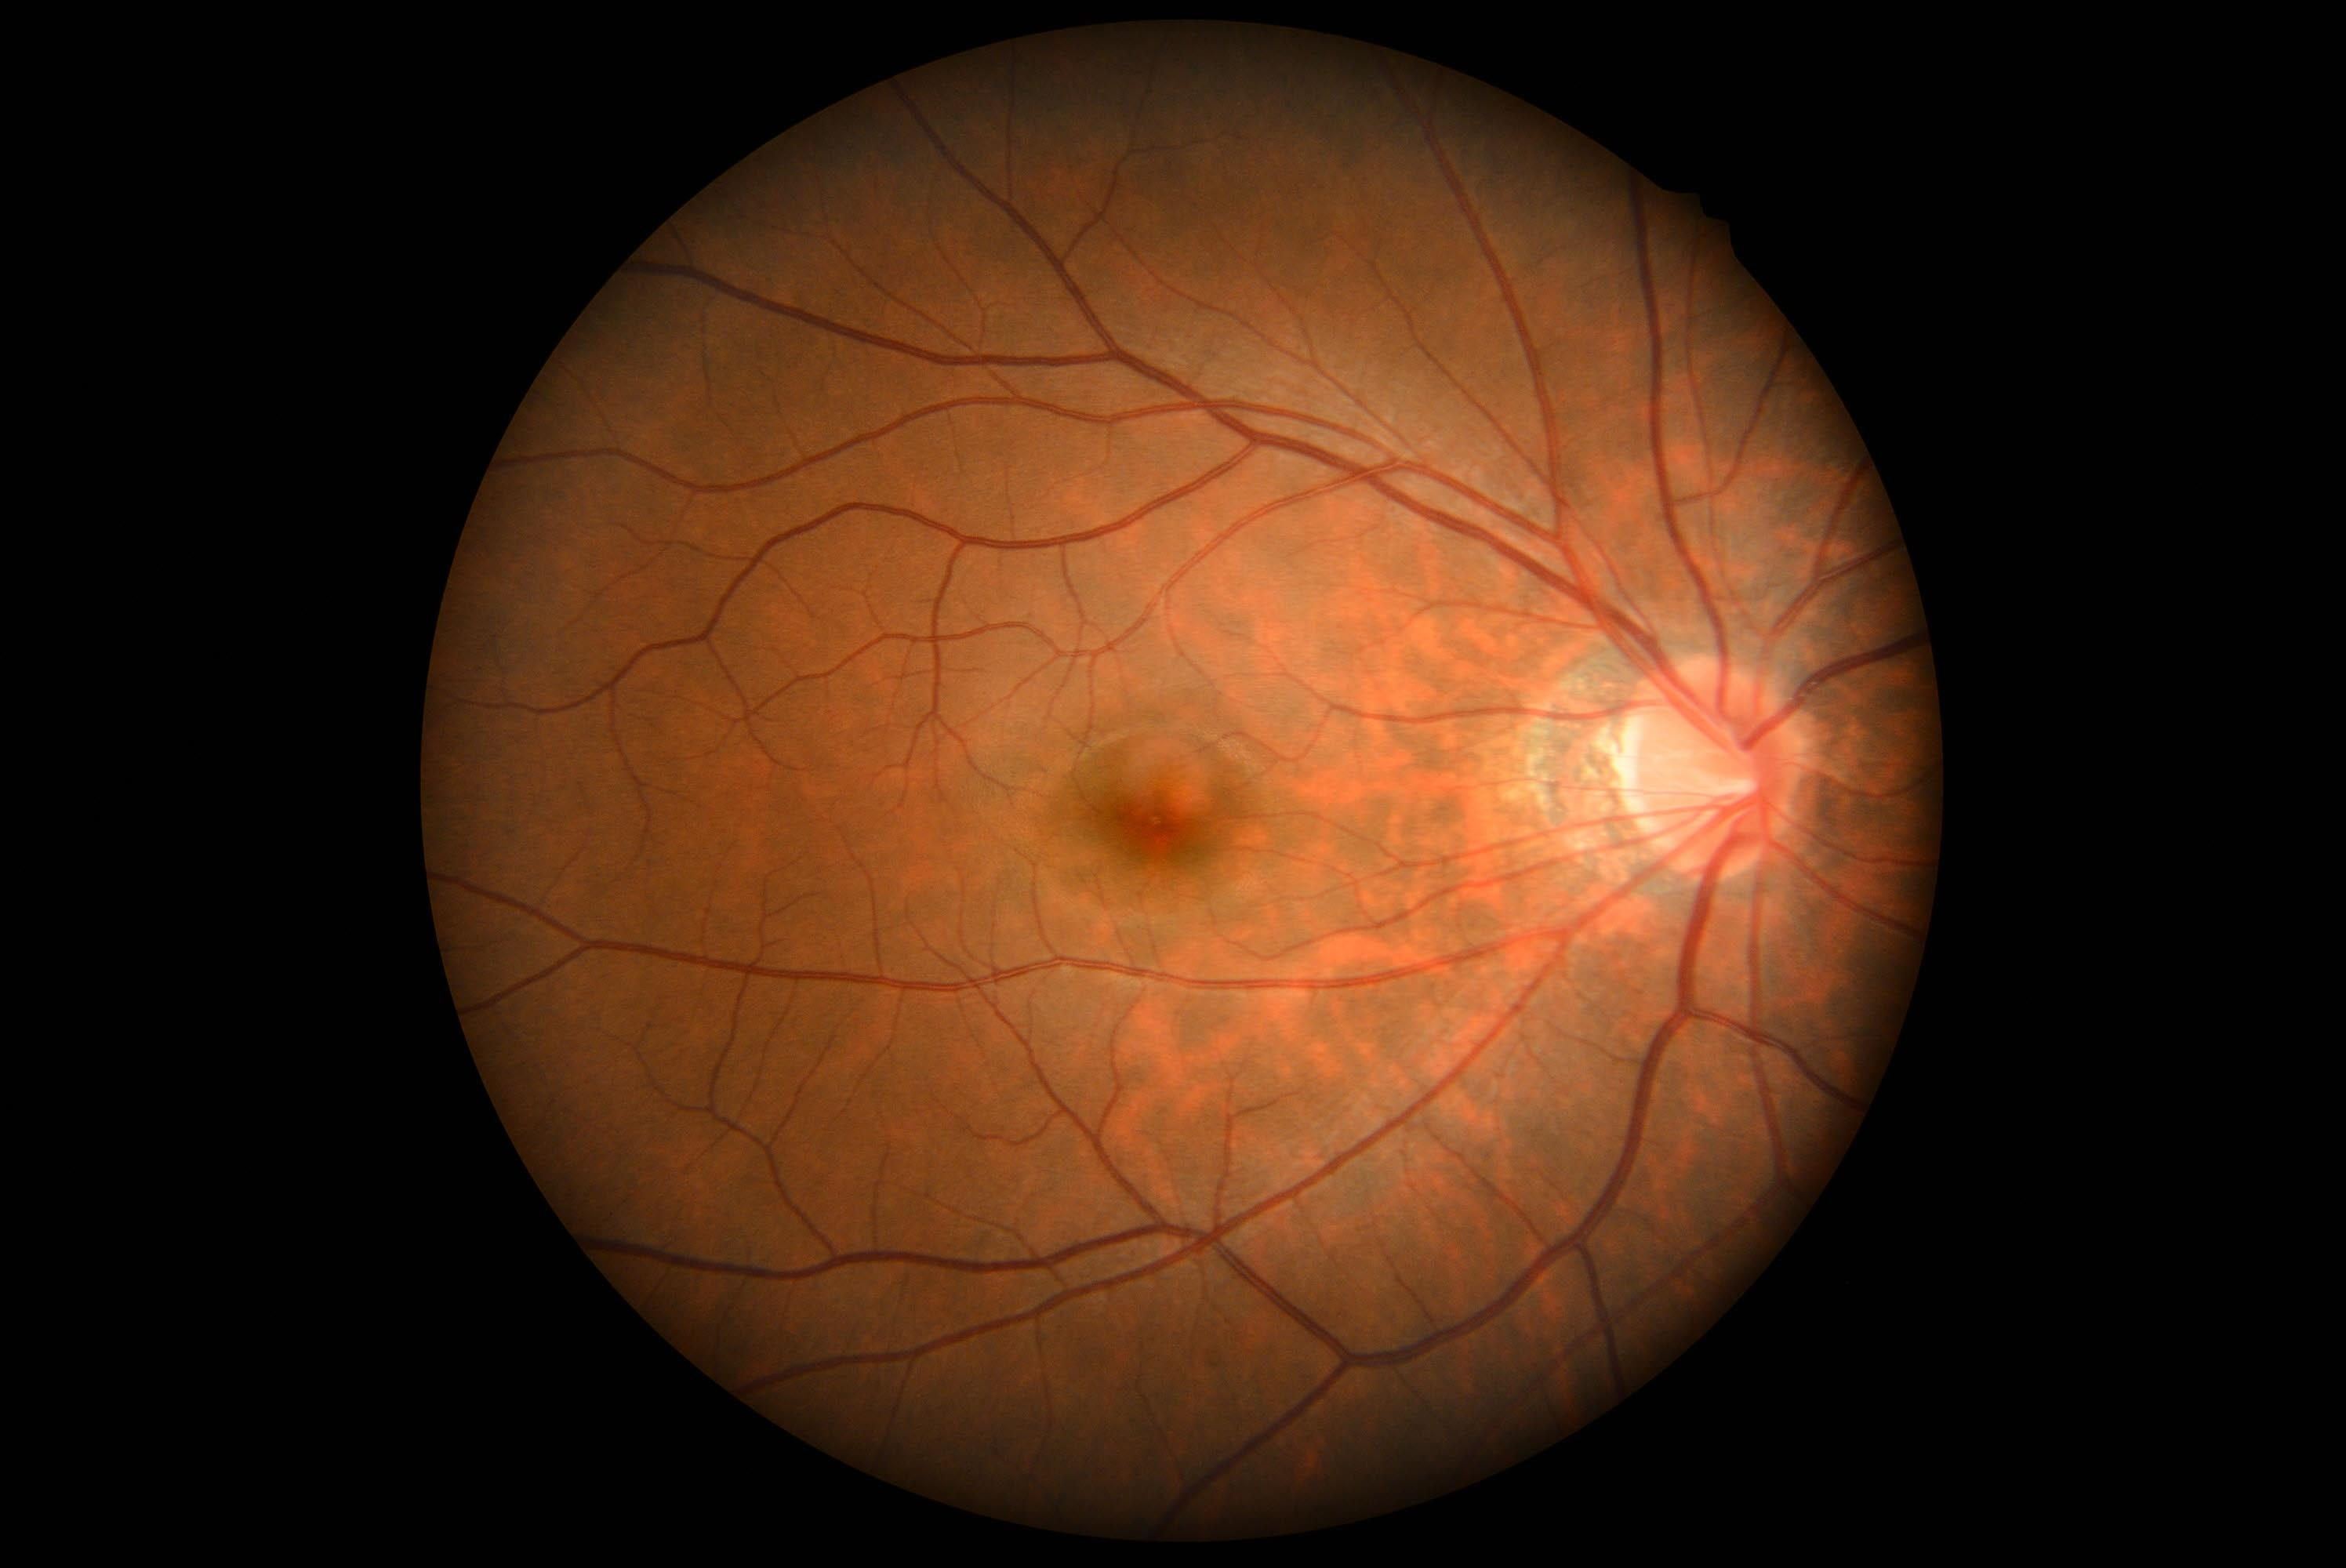Fovea: (1067, 733, 1237, 901)
